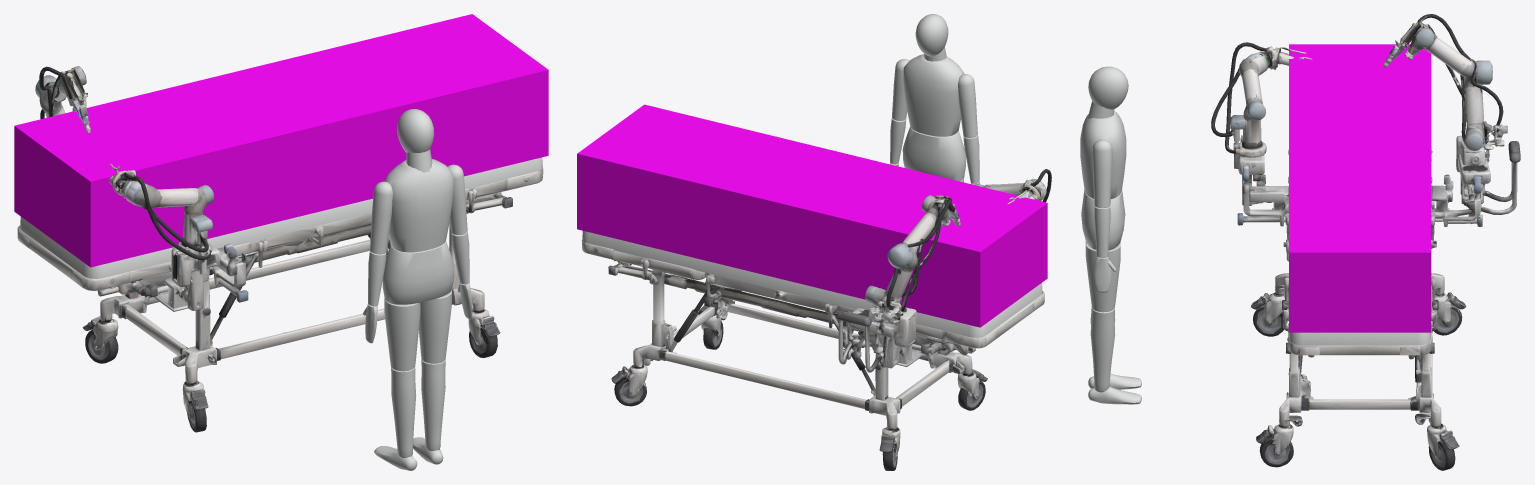
Rendered from room.glb.
3 views of the same model, side by side, from view 1: azimuth 30°, elevation 25°; view 2: azimuth 150°, elevation 25°; view 3: azimuth 270°, elevation 25° (orthographic). The views are drawn at different scales.
Parts seen in each view (by area): view 1: table_proxy, table_empty, body_standing, sheet; view 2: table_proxy, table_empty, body_standing, sheet; view 3: table_proxy, table_empty, body_standing, sheet.
Boxes of the visible parts, <box> form: table_proxy: <box>14,14,548,267</box>; table_empty: <box>17,66,543,432</box>; body_standing: <box>363,109,472,470</box>; sheet: <box>20,157,542,278</box>; table_proxy: <box>577,104,1047,327</box>; table_empty: <box>581,169,1051,470</box>; body_standing: <box>890,14,979,184</box>; sheet: <box>582,231,1042,337</box>; table_proxy: <box>1289,44,1431,332</box>; table_empty: <box>1211,14,1520,470</box>; body_standing: <box>1080,66,1141,404</box>; sheet: <box>1289,332,1430,345</box>.
Size of the model in its own units: 2.36 by 1.72 by 2.1.
Materials: 4 (1 with a texture image).
